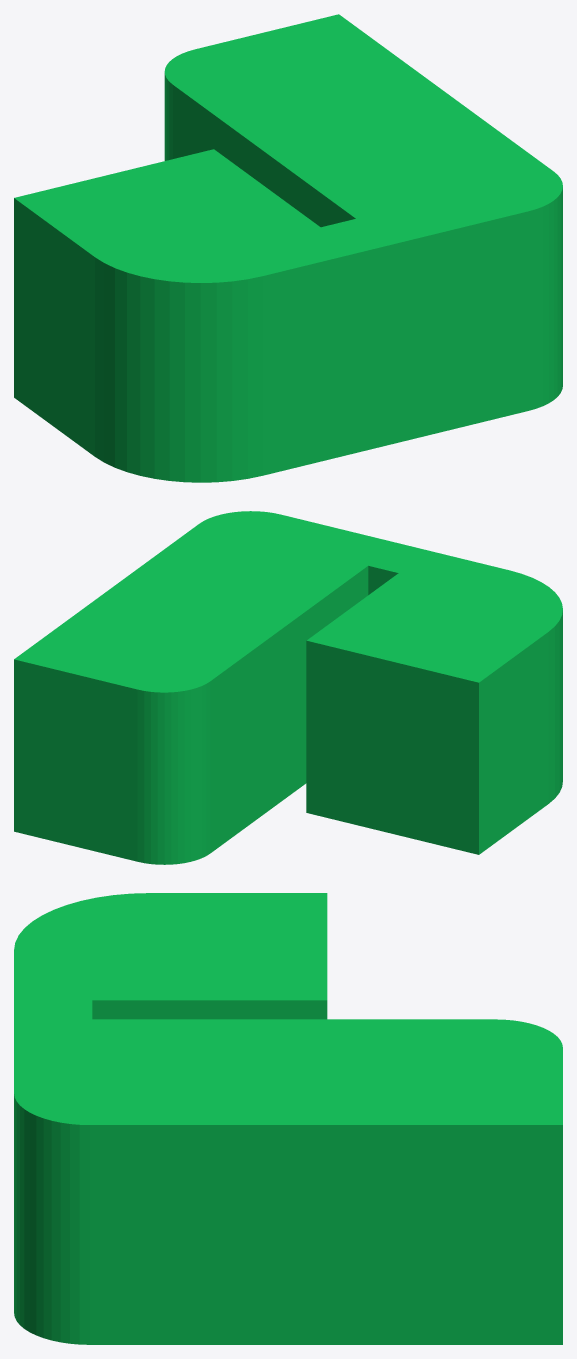
Rendered from jgnr.gltf.
3 views of the same model, one above another, from view 1: azimuth 30°, elevation 25°; view 2: azimuth 150°, elevation 25°; view 3: azimuth 270°, elevation 25° (orthographic). The views are drawn at different scales.
Parts seen in each view (by area): view 1: Curve; view 2: Curve; view 3: Curve.
Part boxes in pixels (left/top/right/bottom): Curve: left=14, top=14, right=562, bottom=482; Curve: left=14, top=511, right=562, bottom=864; Curve: left=14, top=893, right=562, bottom=1344.
Bounding box in the file's own units: 0.0566 × 0.025 × 0.0566.
